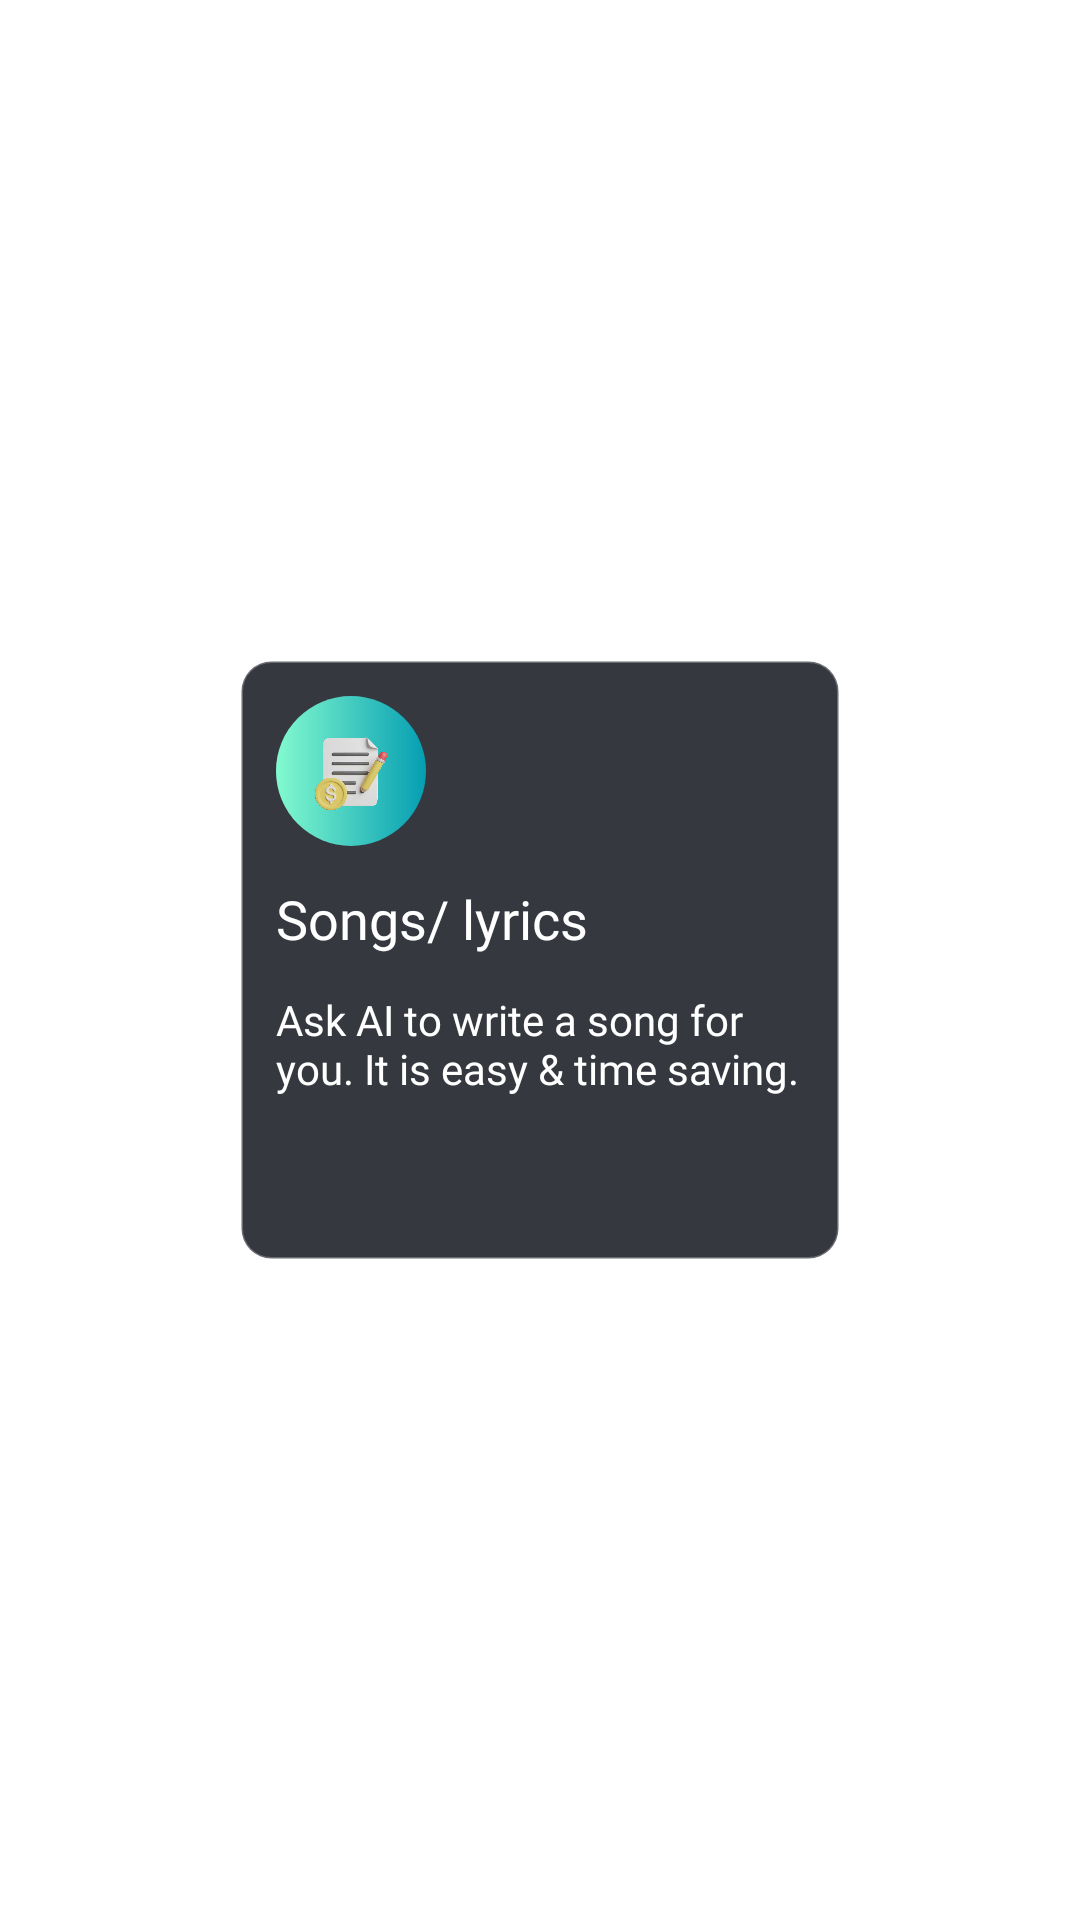

Where to tap for icons on this 1080*1920 app screen, as point (x, y):
writing article: point (351, 771)
